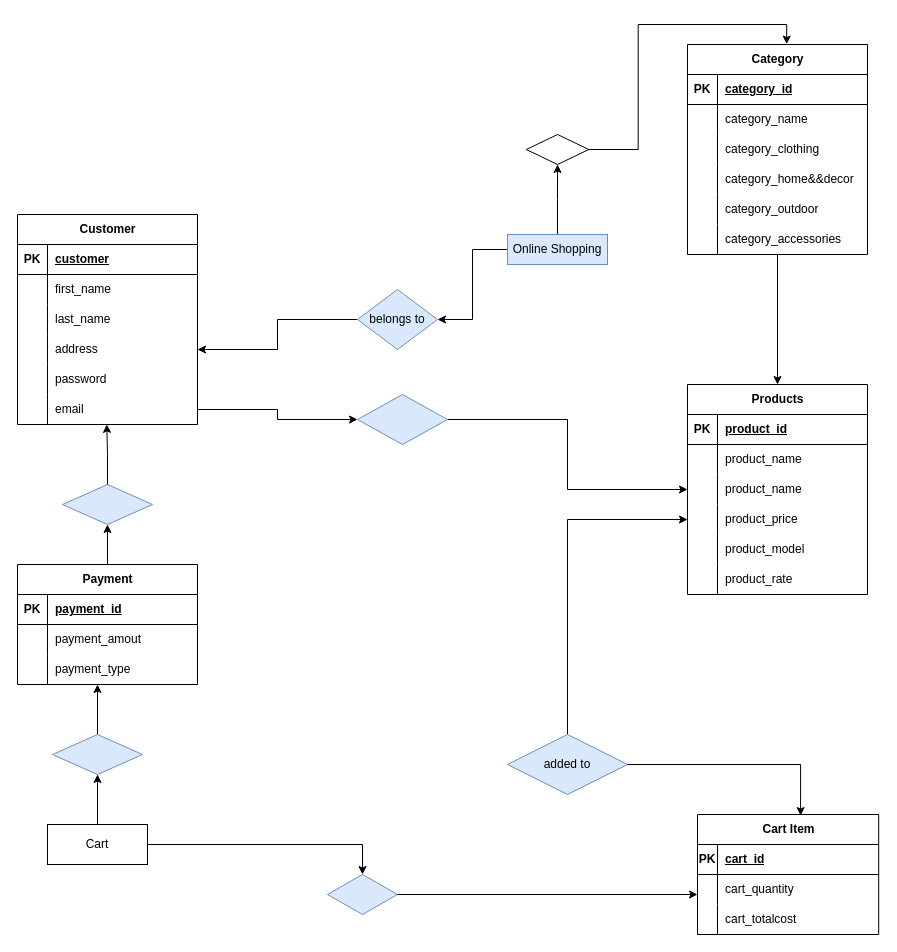
The diagram is 897 pixels wide and 952 high, and some of its shapes have lost their labels. The shapes that lost their labels are listed below. From the top down, each one's centre as x and y in pixels, then its label:
the point at 557,149: has
the point at 402,419: buys
the point at 107,504: done
the point at 97,754: done for
the point at 362,894: made of
